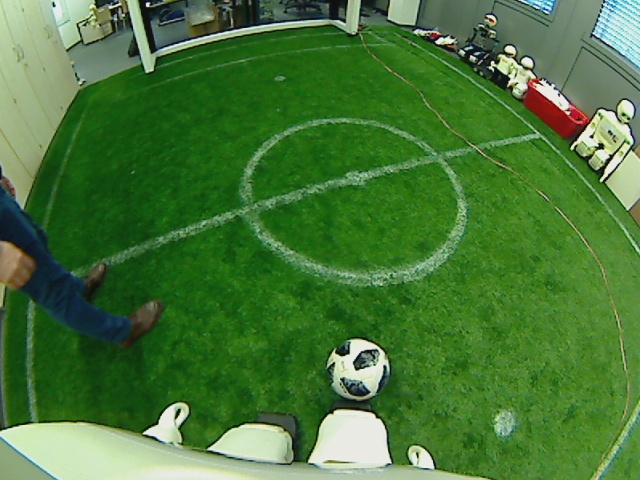ball: (323, 336, 392, 404)
